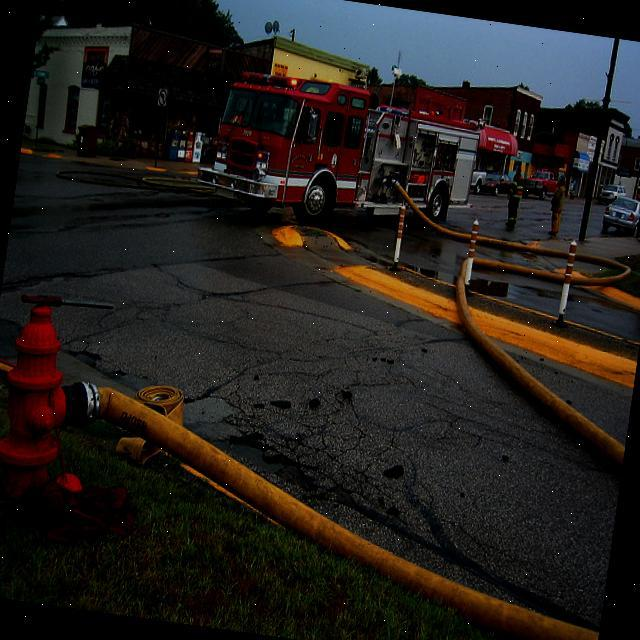fire_hydrant: (0, 289, 84, 510)
